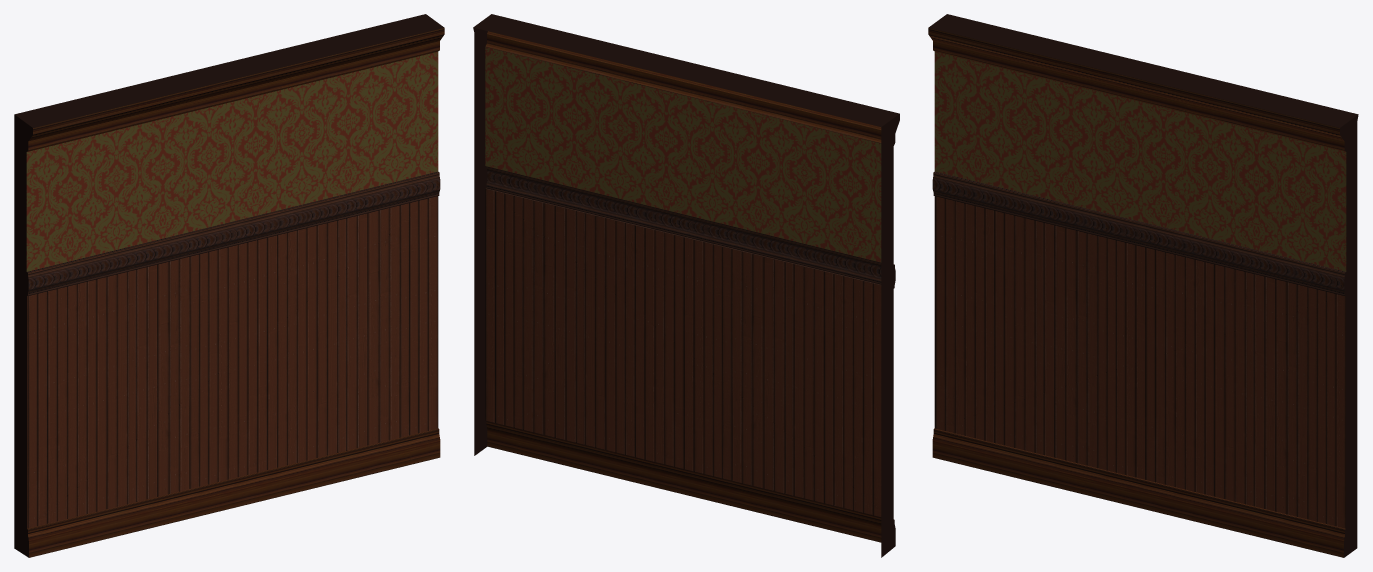
Rendered from Wall2Med.fbx.
3 views of the same model, side by side, from view 1: azimuth 30°, elevation 25°; view 2: azimuth 150°, elevation 25°; view 3: azimuth 330°, elevation 25° (orthographic).
Parts seen in each view (by area): view 1: WallSection2Med.001; view 2: WallSection2Med.001; view 3: WallSection2Med.001.
Boxes of the visible parts, x1,y1,x2,y2 form: WallSection2Med.001: [14, 14, 444, 557]; WallSection2Med.001: [473, 14, 899, 557]; WallSection2Med.001: [928, 14, 1358, 557].
Bounding box in the file's own units: 369 × 372 × 29.11.
